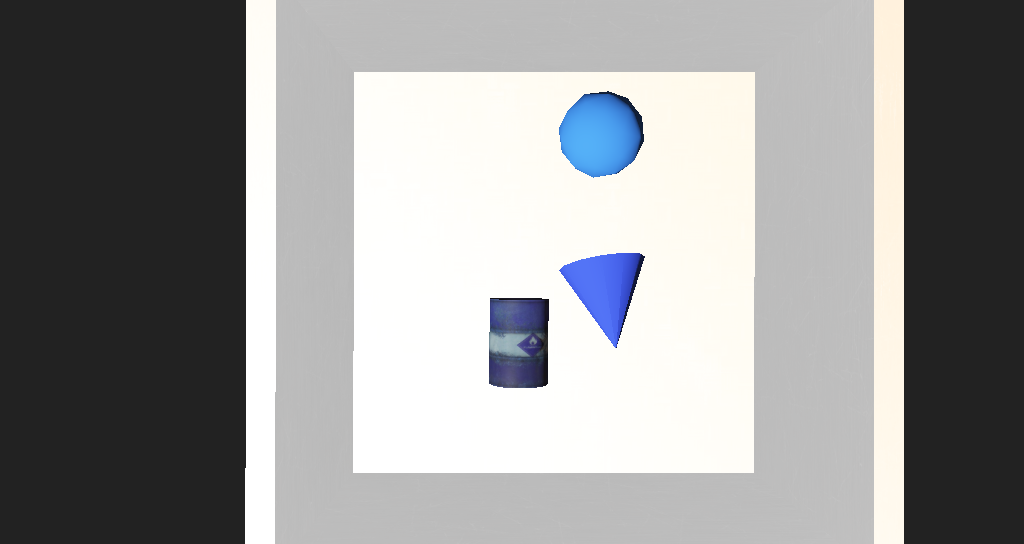cone: (455, 282, 502, 329)
cylinder: (505, 258, 586, 315)
sphere: (505, 172, 573, 220)
